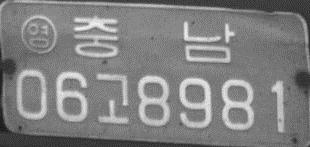0: (15, 68, 49, 123)
1: (263, 80, 294, 133)
6: (55, 70, 89, 122)
8: (136, 74, 171, 127), (220, 78, 255, 130)
9: (178, 76, 212, 129)
고: (94, 72, 131, 124)
영: (20, 13, 56, 55)
충남_D: (72, 14, 234, 64)
